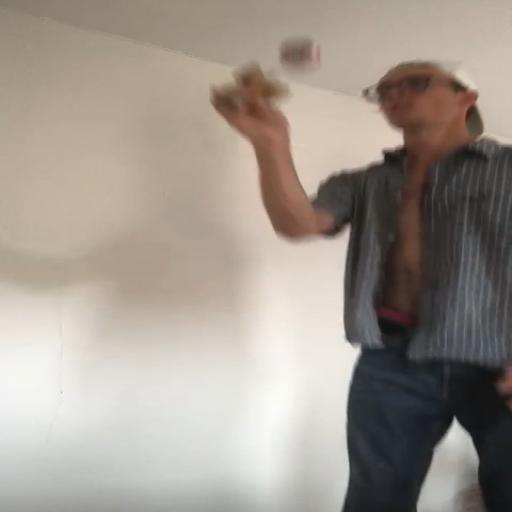kendama_ball: (279, 35, 320, 68)
